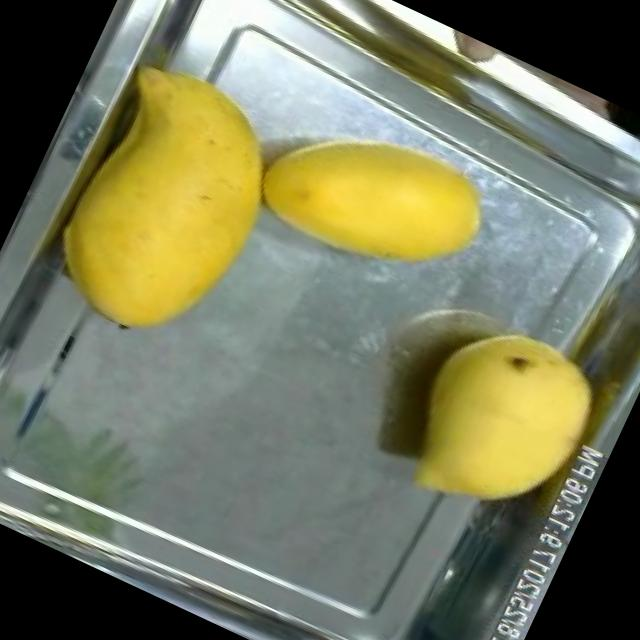fruit: (15, 29, 324, 380), (225, 70, 528, 328), (370, 282, 632, 557)
